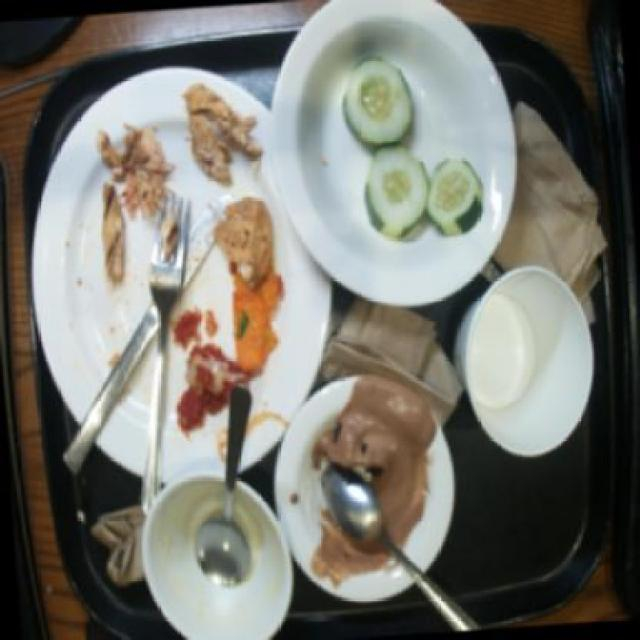Anorganik: (16, 53, 365, 502), (257, 0, 529, 320), (263, 365, 469, 609), (63, 199, 181, 485), (132, 458, 300, 640), (320, 468, 482, 640), (198, 388, 256, 591)
Organik: (344, 59, 488, 237), (69, 108, 198, 232), (165, 68, 273, 194), (192, 190, 295, 308), (78, 174, 140, 302), (153, 202, 189, 285)
